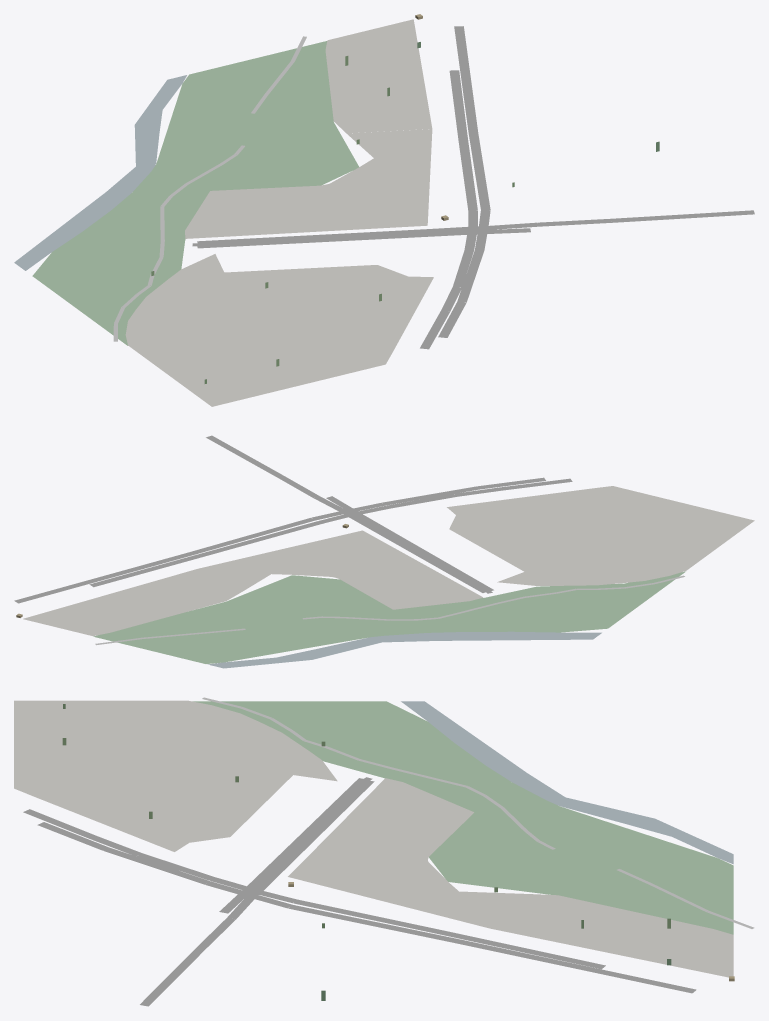
3 views of the same model, one above another, from view 1: azimuth 30°, elevation 25°; view 2: azimuth 150°, elevation 25°; view 3: azimuth 270°, elevation 25° (orthographic). The views are drawn at different scales.
Size of the model in its own units: 510 by 9.01 by 515.
